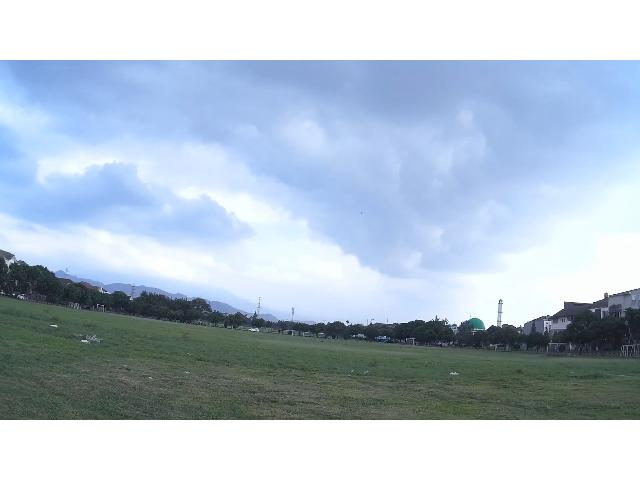Anti-Drone: (351, 204, 372, 220)
